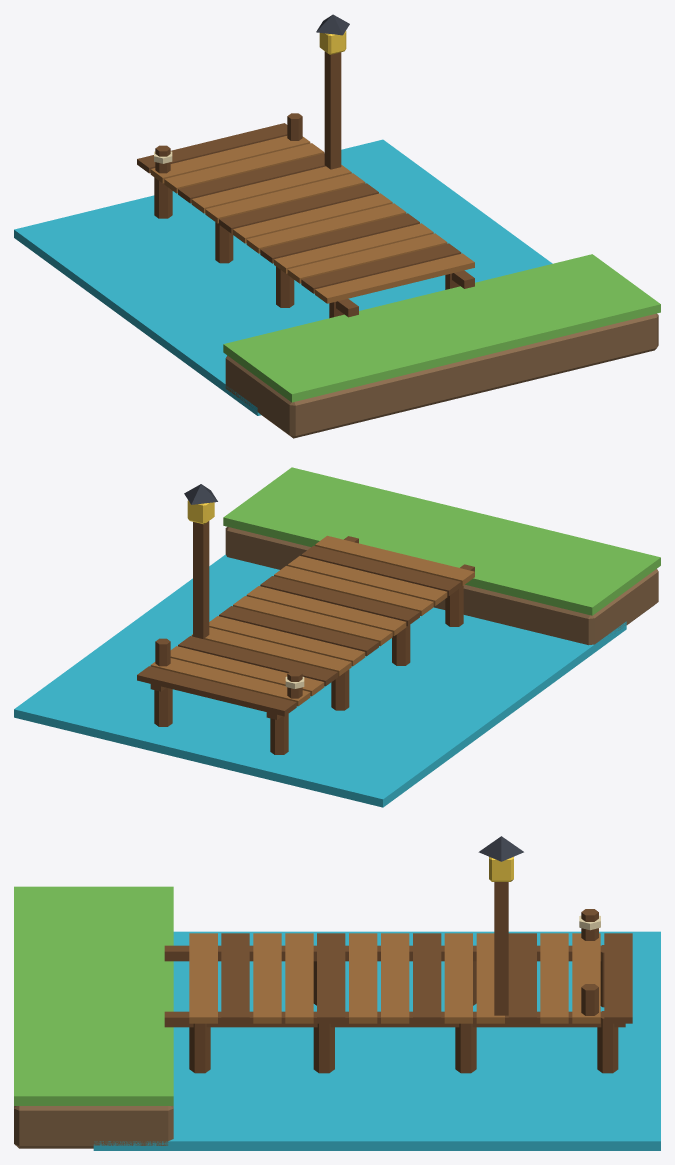
File: trapiche.glb
The picture shows the model from 3 angles, top to bottom: view 1: azimuth 30°, elevation 25°; view 2: azimuth 150°, elevation 25°; view 3: azimuth 270°, elevation 25°; orthographic projection. The views are drawn at different scales.
Visible parts, largest first — view 1: corpo; view 2: corpo; view 3: corpo.
Boxes of the visible parts, x1=… form: corpo: x1=14, y1=14, x2=660, y2=438; corpo: x1=14, y1=467, x2=660, y2=807; corpo: x1=14, y1=836, x2=660, y2=1150.
Bounding box in the file's own units: 1.4 × 0.77 × 1.83.
